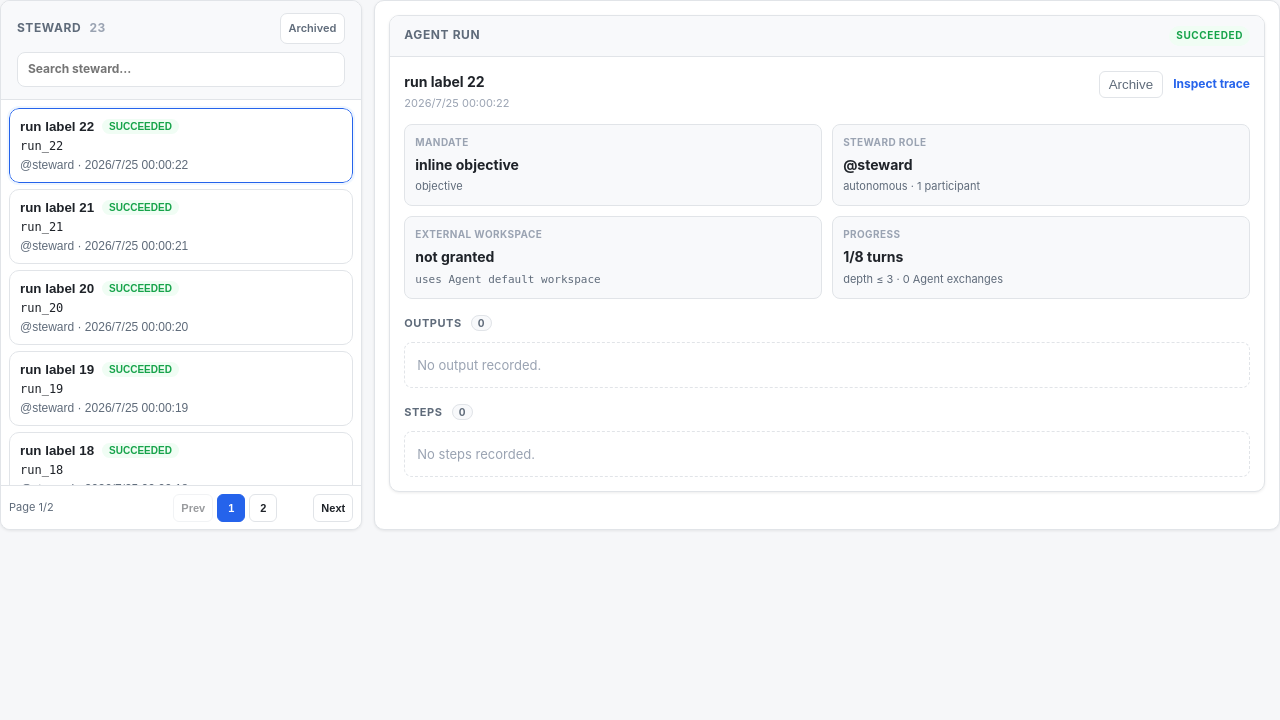
Test: StewardView › paginates twenty Runs and supports Previous and Next navigation
expect the text "Page 1/2" is shown: met, box [9,500,54,514]
Step 1. Click the button with aria-label "Next page" → (333, 508), box [313,494,353,522]
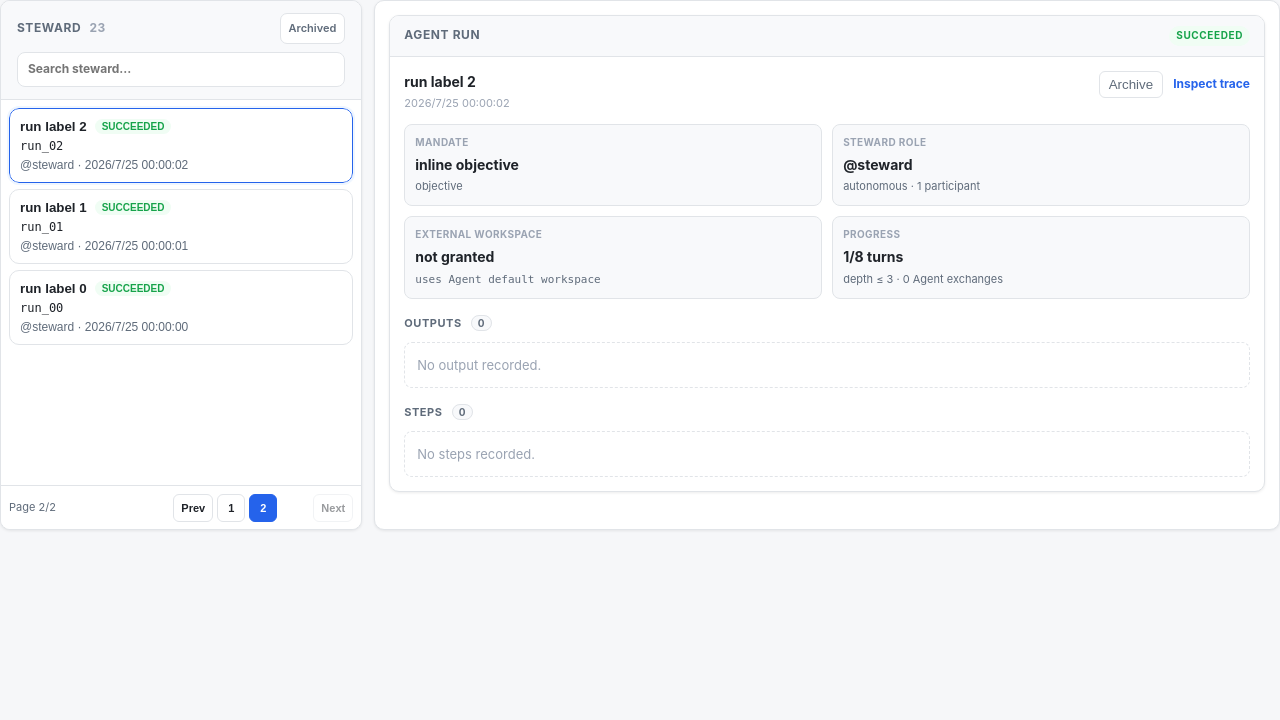
expect the text "Page 2/2" is shown: met, box [9,500,56,514]
expect the number of buttons with class "operation-row" is 3: met, box [9,108,353,183]; [9,189,353,264]; [9,270,353,345]
Step 2. Click the button with aria-label "Previous page" → (193, 508), box [173,494,213,522]
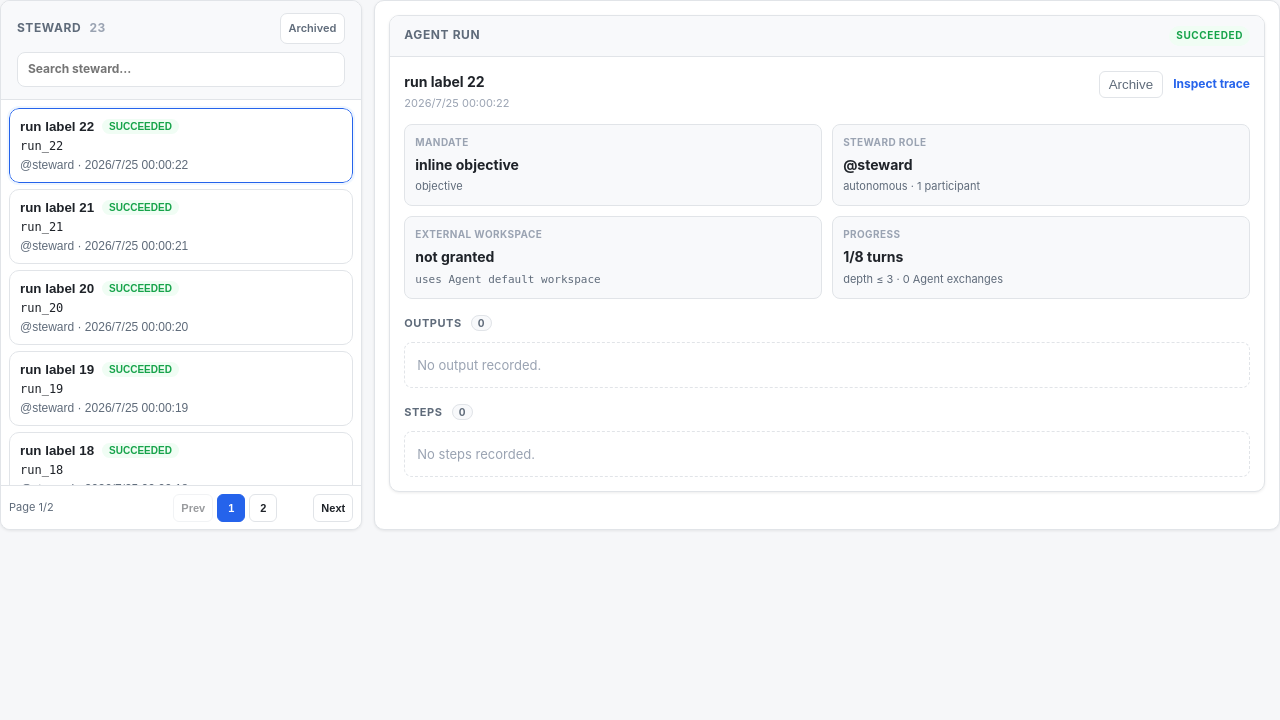
expect the text "Page 1/2" is shown: met, box [9,500,54,514]
